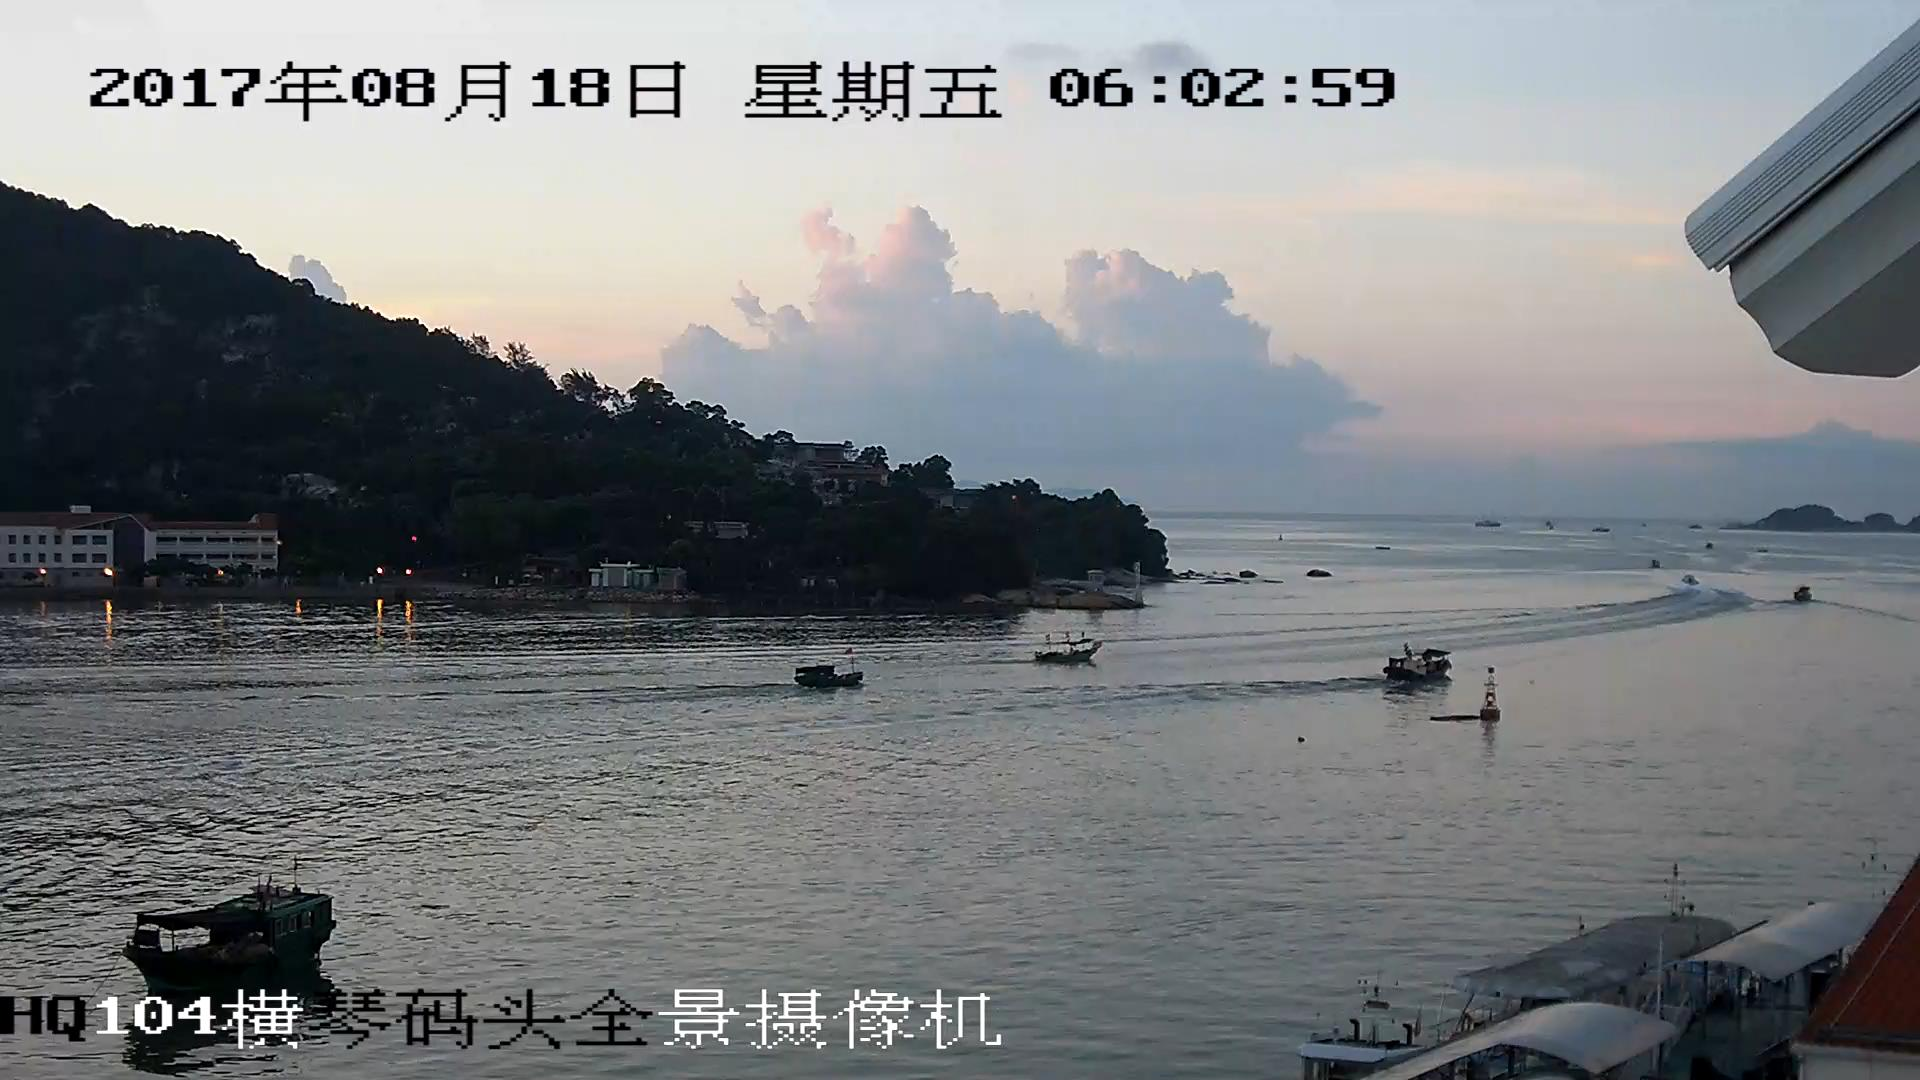fishing boat: (118, 886, 347, 983), (1386, 642, 1454, 685), (795, 656, 868, 692), (1032, 633, 1098, 663)
